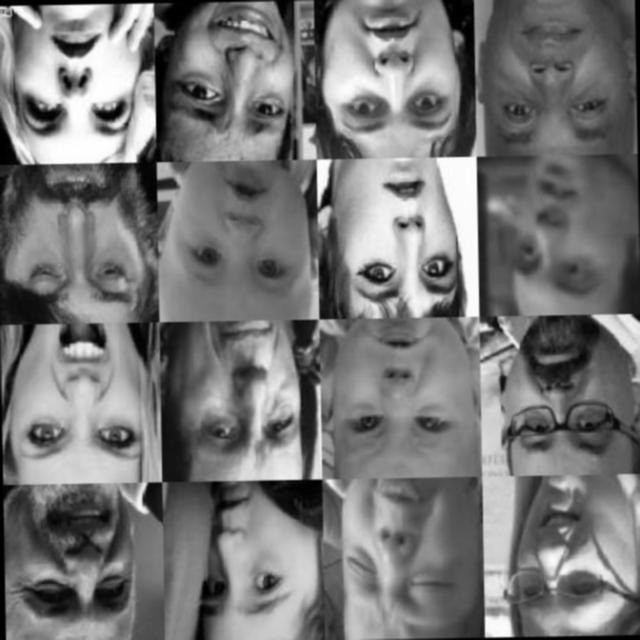angry: (332, 316, 471, 474), (11, 318, 148, 476)
fear: (338, 167, 469, 304)
happy: (493, 474, 632, 630), (11, 484, 146, 640)
neutral: (311, 0, 468, 154), (482, 0, 631, 153), (4, 4, 145, 150), (174, 488, 318, 626), (504, 322, 634, 464), (165, 170, 306, 300), (508, 161, 619, 308)
sad: (2, 160, 148, 314), (329, 485, 477, 634), (163, 5, 299, 154), (178, 321, 307, 468)
